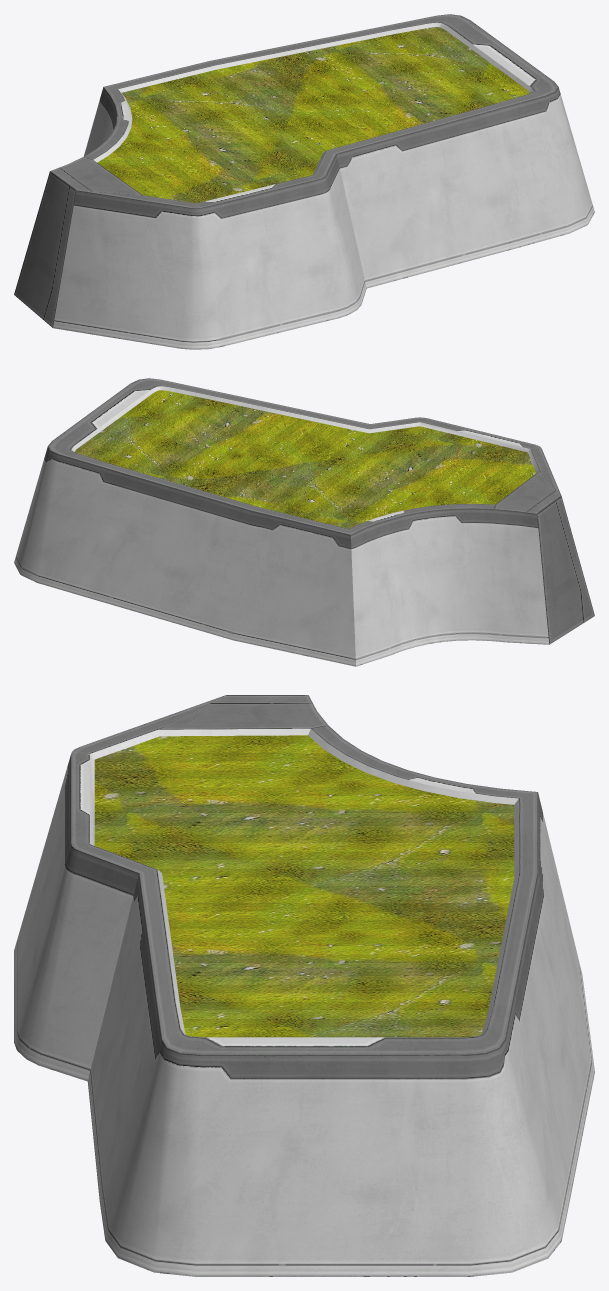
File: GrassTerraceA.FBX
3 views of the same model, one above another, from view 1: azimuth 30°, elevation 25°; view 2: azimuth 150°, elevation 25°; view 3: azimuth 270°, elevation 25° (orthographic). The views are drawn at different scales.
Parts seen in each view (by area): view 1: GrassTerraceA; view 2: GrassTerraceA; view 3: GrassTerraceA.
Part boxes in pixels (x1=…): GrassTerraceA: x1=14, y1=14, x2=594, y2=349; GrassTerraceA: x1=14, y1=378, x2=594, y2=666; GrassTerraceA: x1=14, y1=695, x2=594, y2=1276.
Bounding box in the file's own units: 136 × 30.72 × 81.83.
